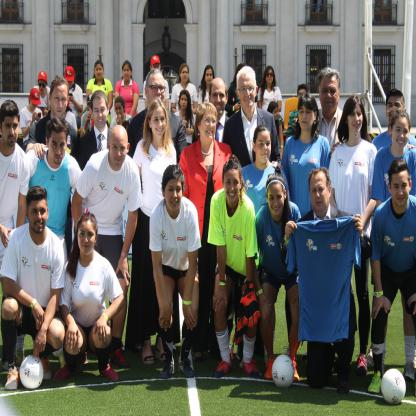Ball: (380, 369, 408, 405), (19, 354, 43, 387), (272, 354, 294, 387)
